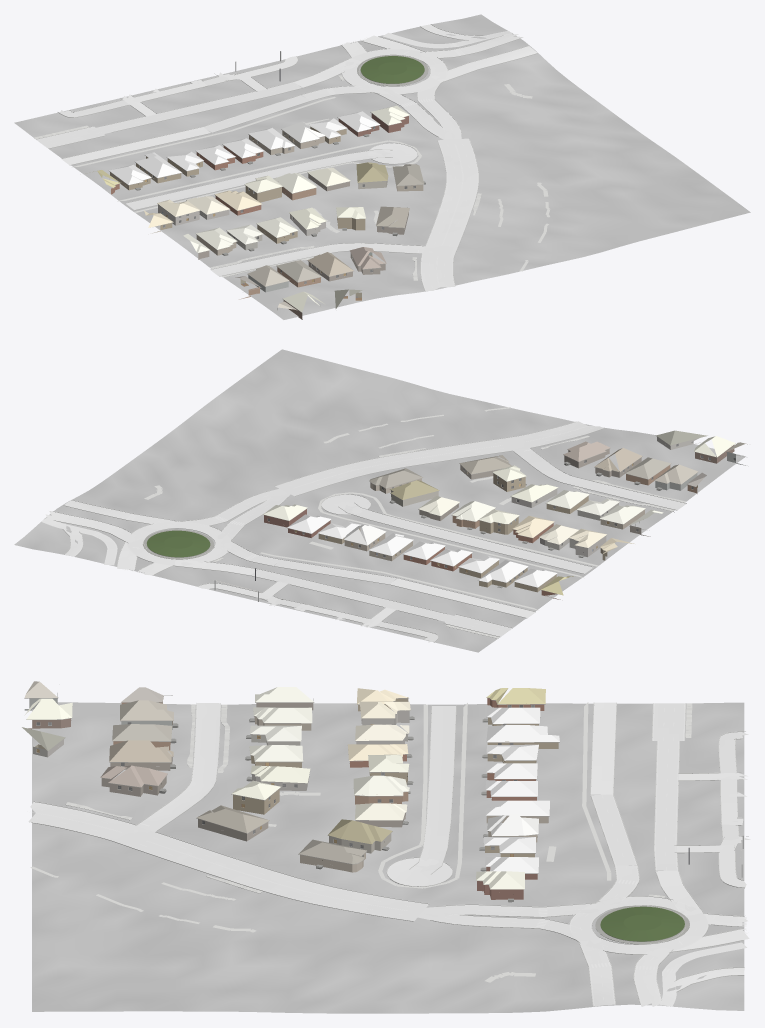
3 renders of one model, top to bottom at view 1: azimuth 30°, elevation 25°; view 2: azimuth 150°, elevation 25°; view 3: azimuth 270°, elevation 25°, orthographic. The views are drawn at different scales.
Parts seen in each view (by area): view 1: ground, asphalt, roof, concrete, wall, curb, detail, walk, wall_stucco, mark_w, wall_stone, mark_y; view 2: ground, roof, asphalt, concrete, wall, curb, detail, walk, wall_stucco, mark_w, wall_stone, mark_y; view 3: ground, roof, asphalt, concrete, wall, detail, walk, curb, mark_w, wall_stucco, mark_y, wall_stone.
Boxes of the visible parts, bbox=[...] form: ground: bbox=[14, 14, 750, 319]; asphalt: bbox=[37, 31, 537, 290]; roof: bbox=[93, 105, 423, 312]; concrete: bbox=[60, 24, 482, 276]; wall: bbox=[110, 113, 408, 319]; curb: bbox=[36, 24, 537, 290]; detail: bbox=[105, 54, 428, 312]; walk: bbox=[34, 75, 550, 280]; wall_stucco: bbox=[227, 130, 423, 292]; mark_w: bbox=[38, 31, 535, 289]; wall_stone: bbox=[158, 204, 325, 235]; mark_y: bbox=[50, 33, 527, 289]; ground: bbox=[14, 349, 745, 652]; roof: bbox=[263, 430, 747, 595]; asphalt: bbox=[41, 421, 603, 636]; concrete: bbox=[64, 445, 686, 642]; wall: bbox=[264, 445, 734, 599]; curb: bbox=[53, 421, 686, 642]; detail: bbox=[143, 435, 739, 593]; walk: bbox=[144, 407, 685, 638]; wall_stucco: bbox=[344, 452, 745, 561]; mark_w: bbox=[44, 423, 602, 635]; wall_stone: bbox=[511, 437, 700, 557]; mark_y: bbox=[48, 425, 589, 627]; ground: bbox=[32, 702, 744, 1013]; roof: bbox=[22, 681, 559, 889]; asphalt: bbox=[28, 702, 746, 1006]; concrete: bbox=[133, 703, 750, 991]; wall: bbox=[28, 697, 558, 899]; detail: bbox=[24, 695, 689, 944]; walk: bbox=[30, 702, 692, 982]; curb: bbox=[31, 702, 748, 1005]; mark_w: bbox=[33, 703, 748, 1006]; wall_stucco: bbox=[24, 693, 548, 872]; mark_y: bbox=[27, 703, 741, 1004]; wall_stone: bbox=[33, 711, 409, 790].
Bounding box in the file's own units: 260 × 13.47 × 259.
